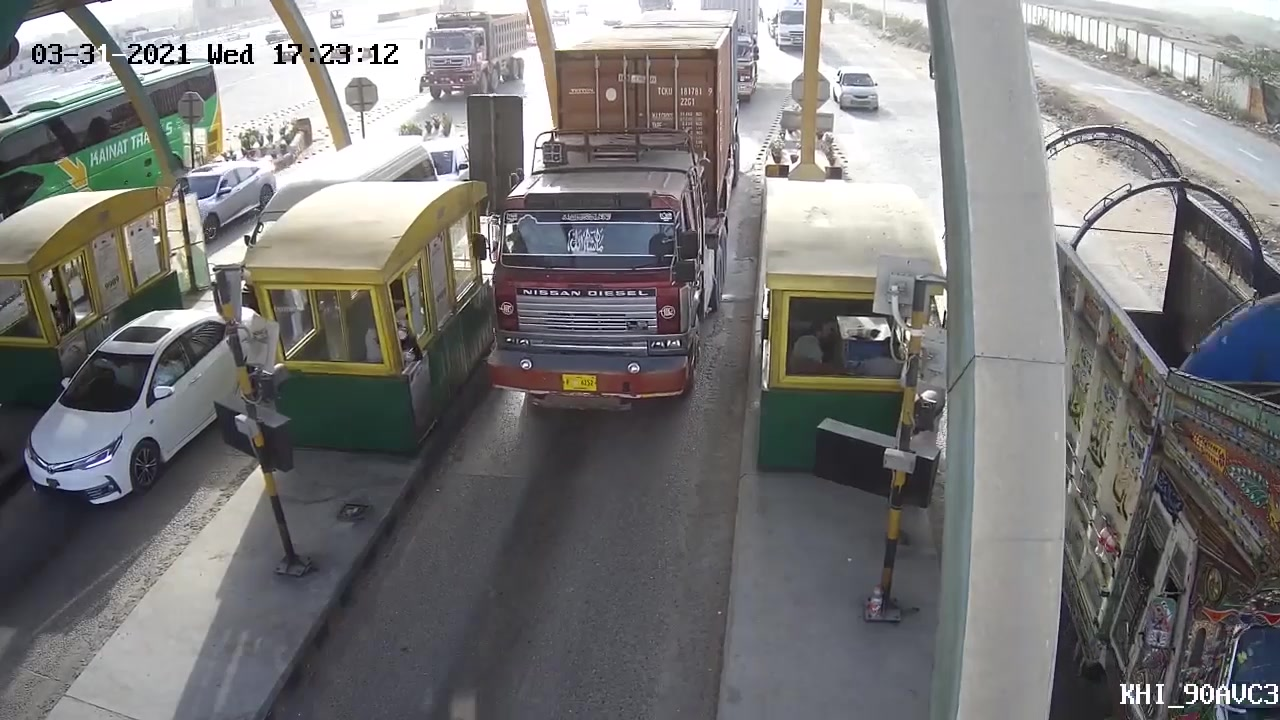F6: (485, 1, 738, 428)
